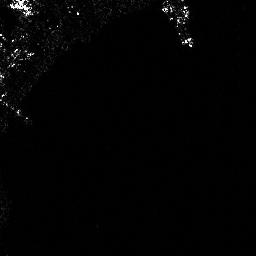ship: (162, 1, 194, 47)
